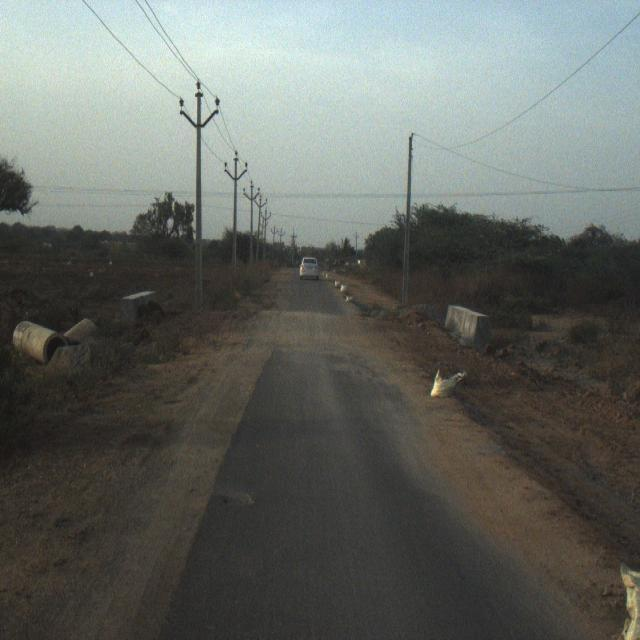pothole: (219, 480, 254, 514)
